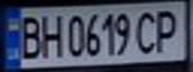0: (63, 11, 84, 57)
1: (100, 9, 118, 56)
6: (81, 10, 103, 57)
9: (112, 9, 136, 55)
B: (12, 11, 45, 60)
C: (133, 8, 160, 55)
H: (36, 11, 63, 60)
P: (151, 6, 184, 54)
